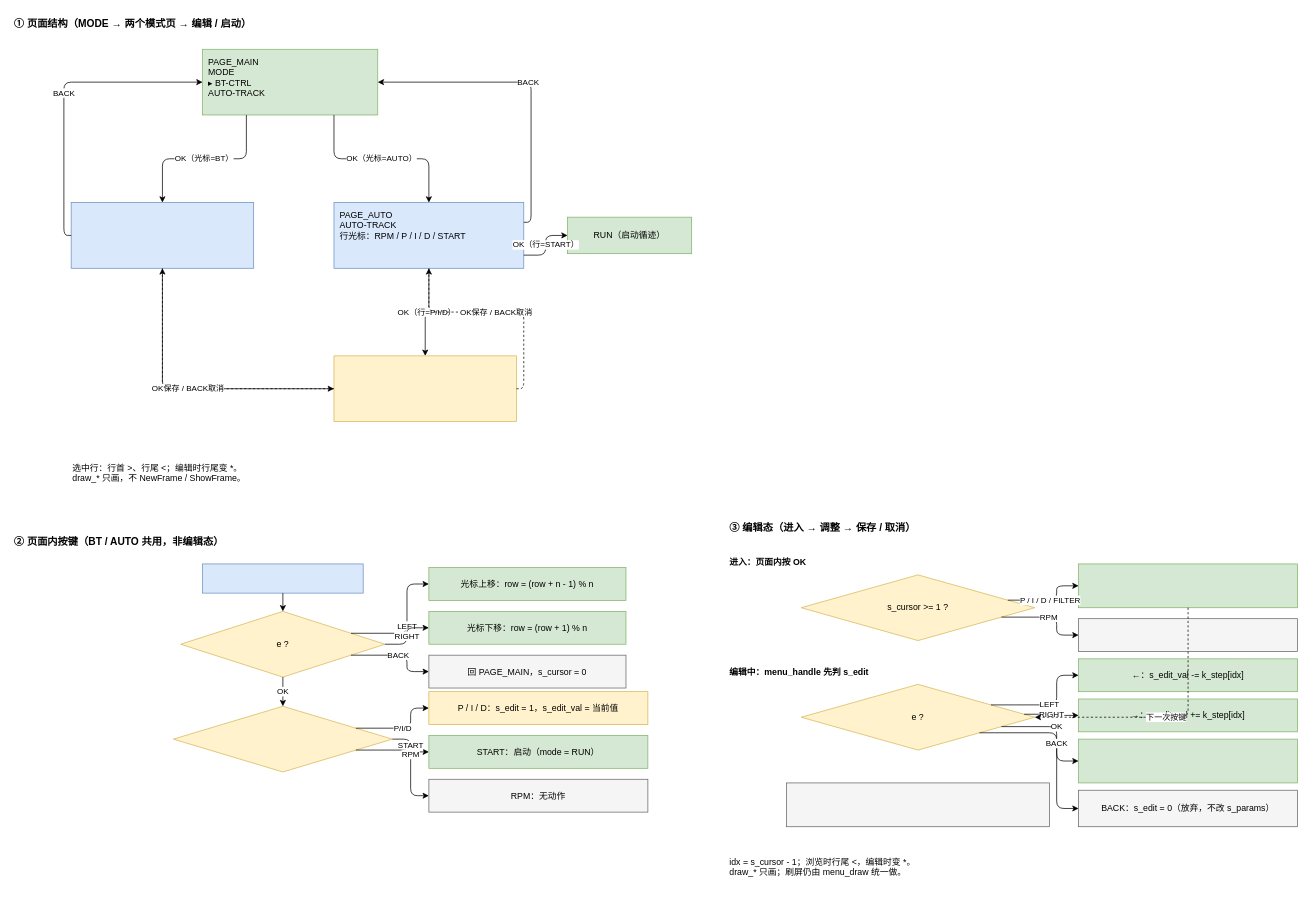
Image size: 1310x908. Some labels were removed from this diagram. Here are the shapes that lost their labels. From the top down, the centre of each, then its label:
At (162,235): "PAGE_BT BT-CONTROL 行光标：RPM / P / I / D".
At (424,388): "EDIT（编辑态） ← / → 减 / 加 OK 保存 · BACK 取消".
At (282,578): "页面内按键 e".
At (1188,585): "s_edit = 1 s_edit_val = s_params[s_cursor - 1]".
At (1188,635): "RPM 行：无动作".
At (282,739): "OK：光标在哪一行？".
At (1188,760): "OK：s_params[idx] = s_edit_val s_edit = 0（保存）".
At (917,804): "加减后都要钳位：k_min[idx] ~ k_max[idx] （P 0~100，I 0~10，D 0~1，FILTER 0~10）".
